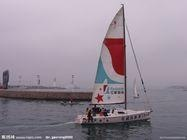fanchuan: (74, 2, 155, 128)
